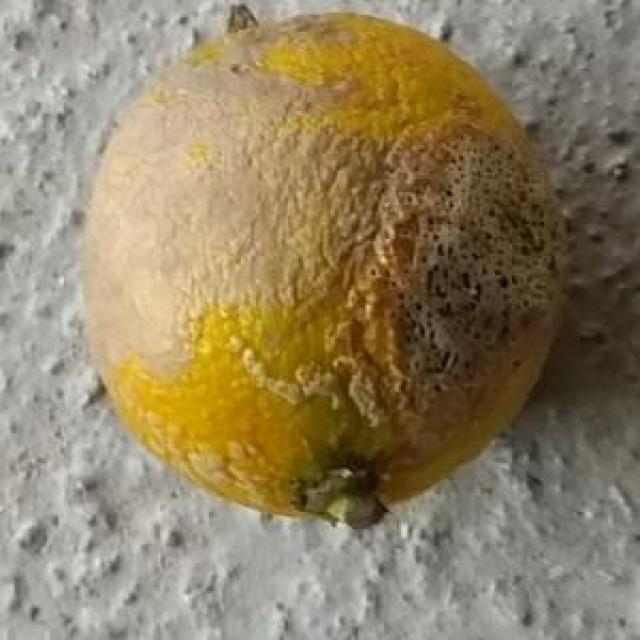lemon: (79, 8, 571, 530)
